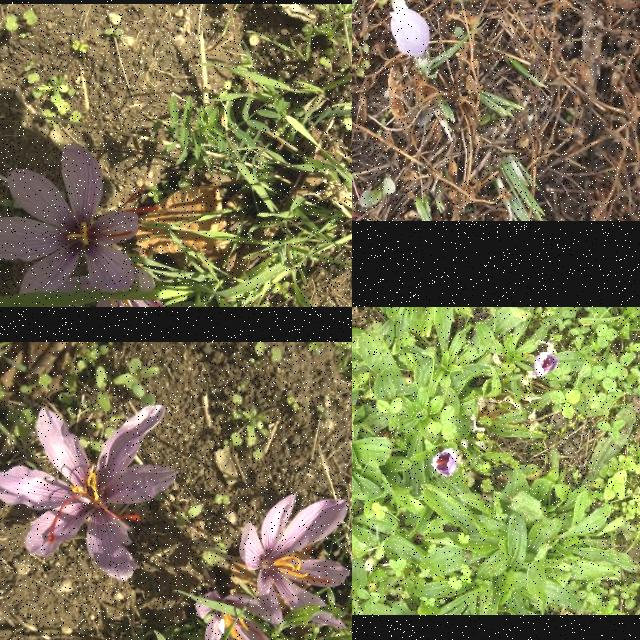flower: (0, 405, 177, 581), (0, 143, 159, 295), (240, 493, 350, 627), (57, 268, 174, 307), (195, 592, 275, 640), (390, 10, 430, 58), (430, 448, 460, 478), (532, 352, 560, 378)
